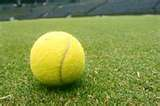tennis ball: (28, 28, 88, 92)
